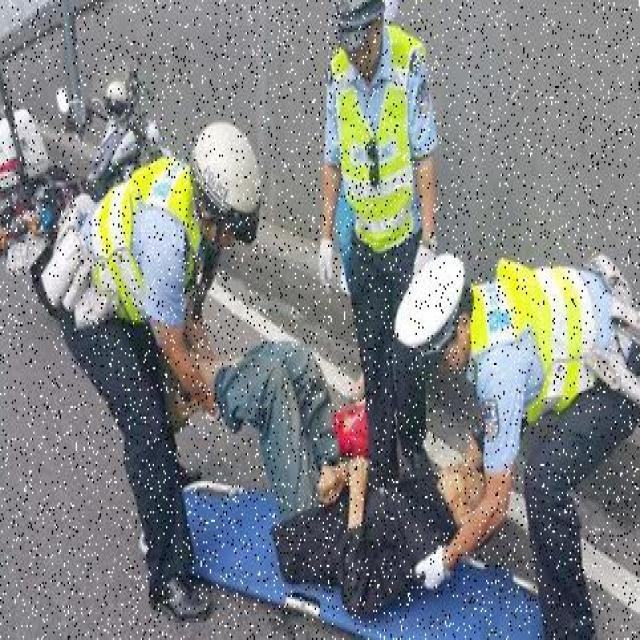fall: (206, 335, 474, 597)
